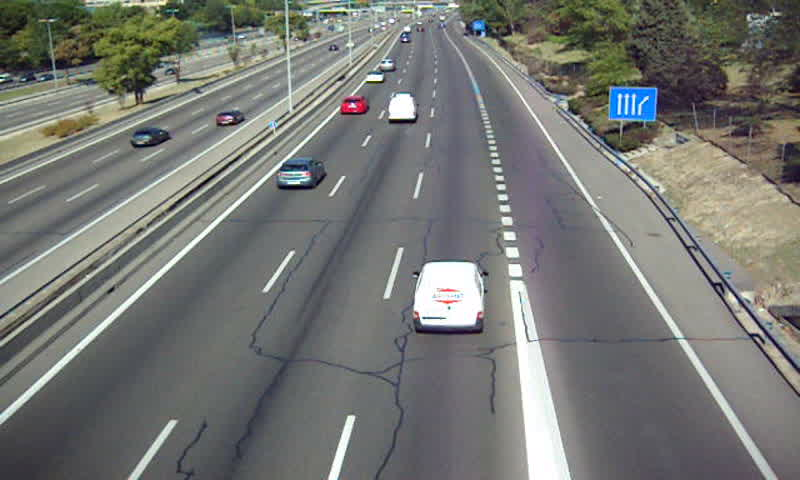car: (277, 158, 324, 188), (341, 95, 368, 114), (365, 70, 384, 84), (379, 58, 393, 72)
van: (412, 262, 484, 331), (386, 94, 418, 123)
